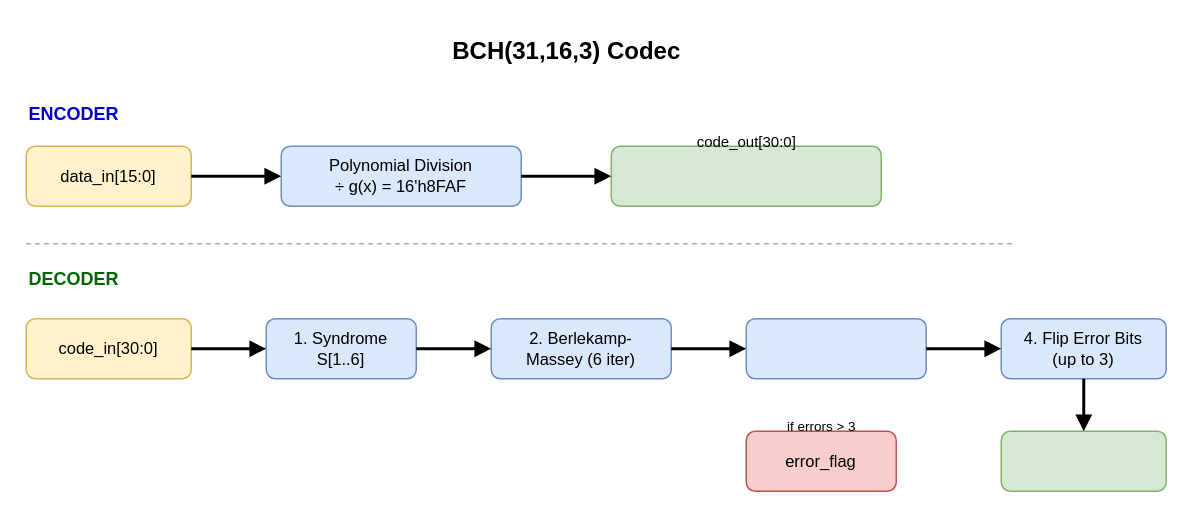
The diagram is 1193 pixels wide and 518 high, and some of its shapes have lost their labels. The box of each missing label's shape, as (x1, y1, x2, y2) in pixels:
3. Chien Search (31 positions): (745, 317, 926, 379)
data_out[15:0]: (1000, 430, 1166, 491)
{data[15:0] | parity[14:0]}: (610, 145, 881, 206)
